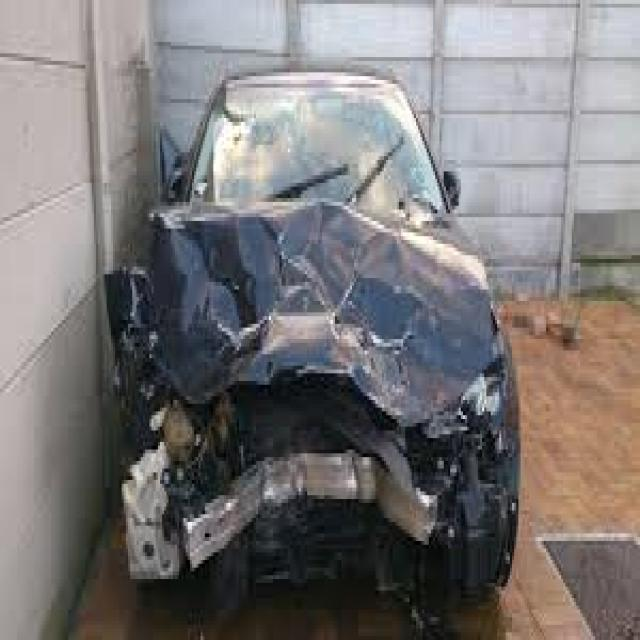severe: (101, 45, 531, 624)
